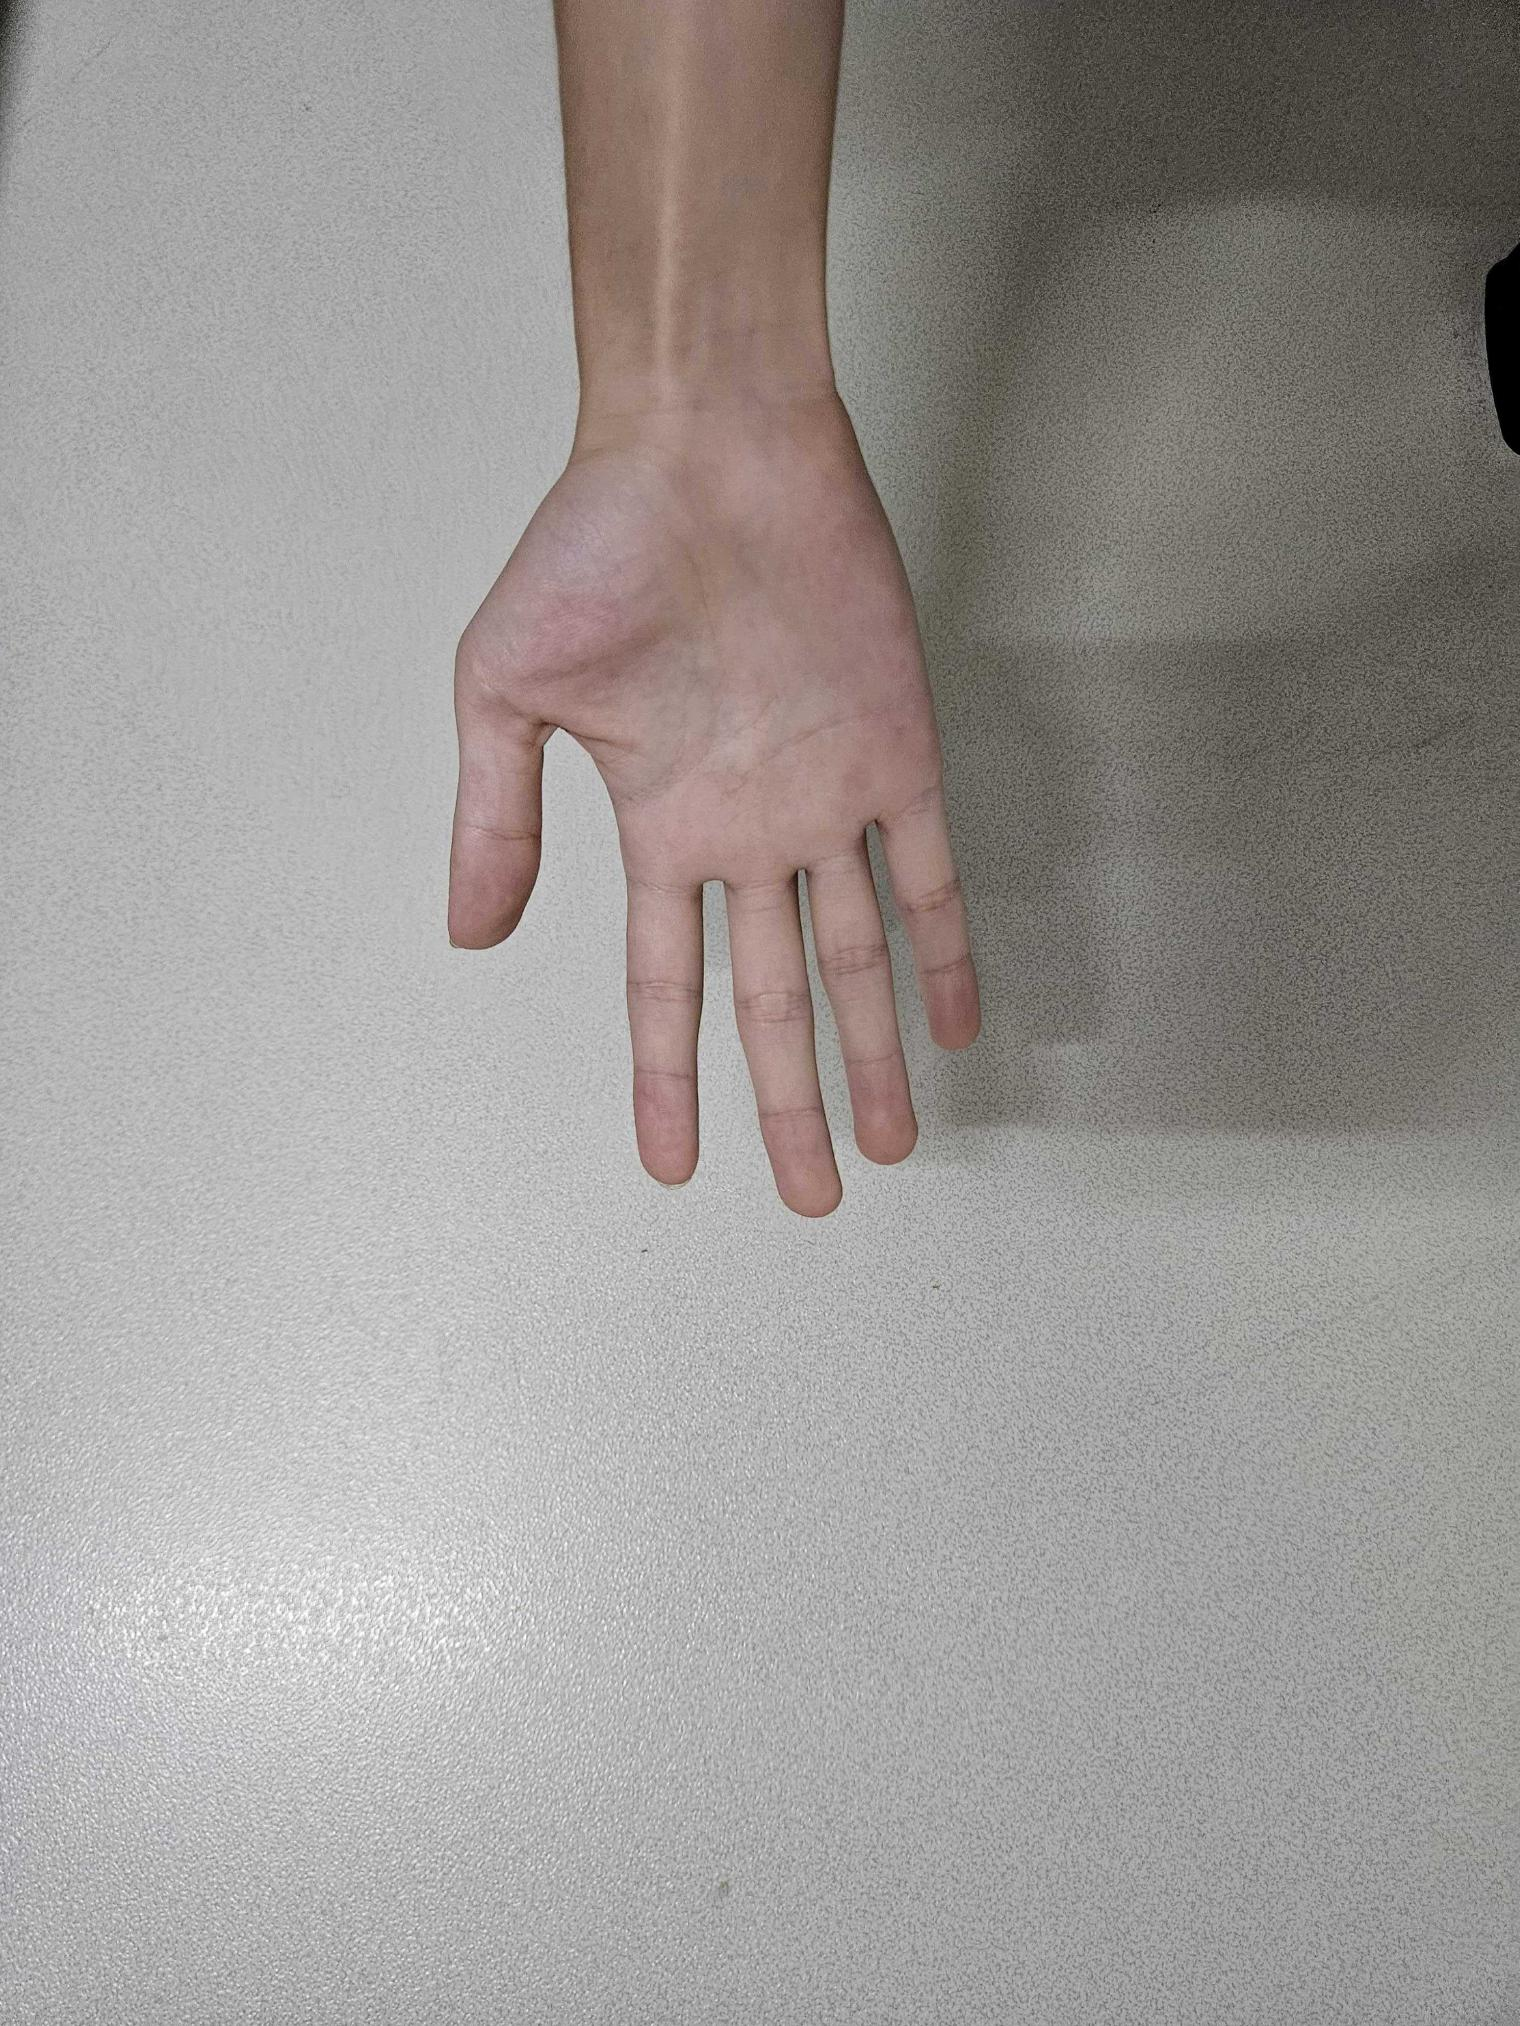open: (431, 401, 984, 1229)
